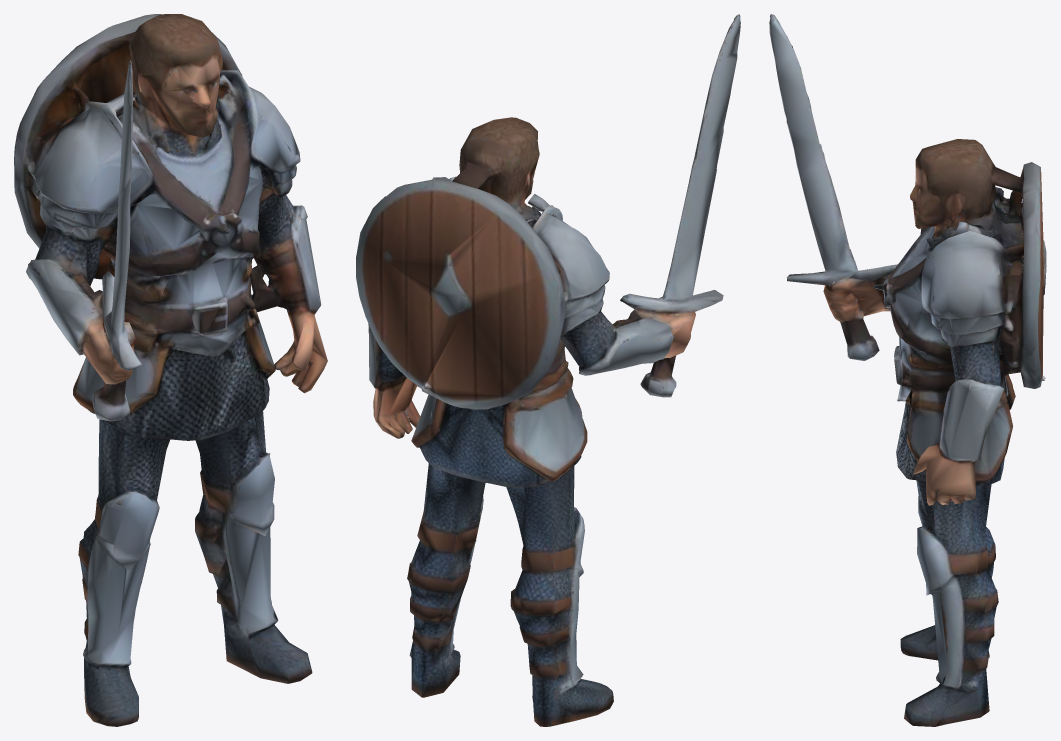
Rendered from epeiste.glb.
3 views of the same model, side by side, from view 1: azimuth 30°, elevation 25°; view 2: azimuth 150°, elevation 25°; view 3: azimuth 270°, elevation 25° (orthographic). The views are drawn at different scales.
Size of the model in its own units: 0.8552 by 2 by 0.8274.
1 material, 1 textured.
